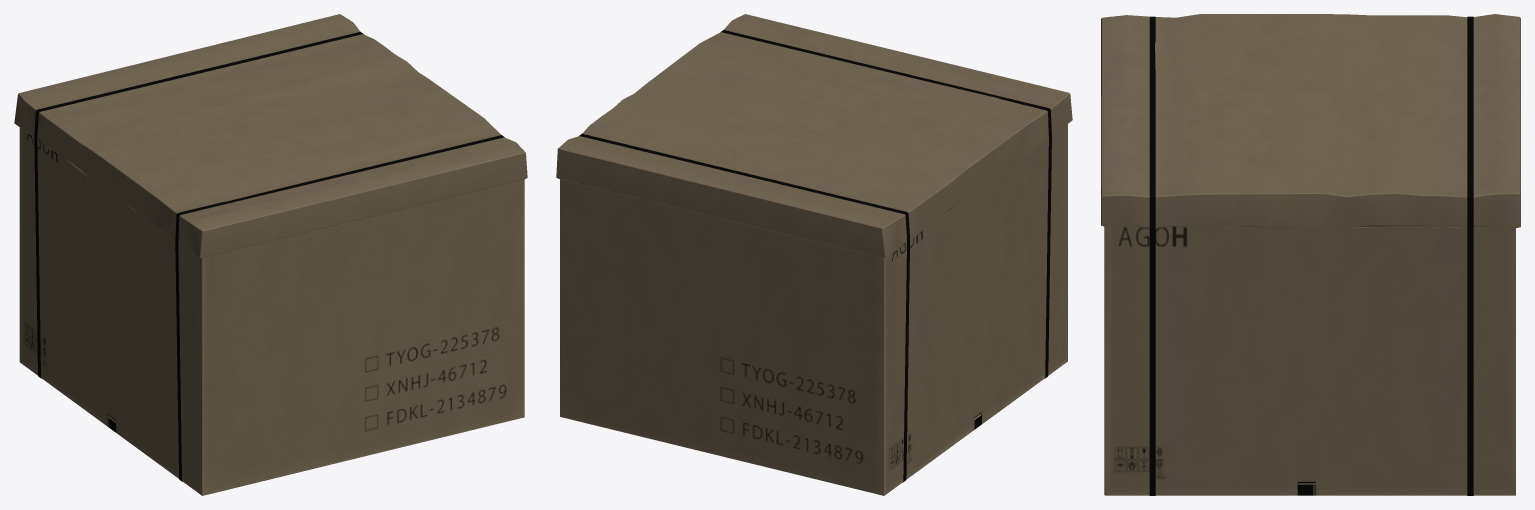
Rendered from Cardboard_A3.glb.
3 renders of one model, left to right at view 1: azimuth 30°, elevation 25°; view 2: azimuth 150°, elevation 25°; view 3: azimuth 270°, elevation 25°, orthographic. The views are drawn at different scales.
Parts seen in each view (by area): view 1: Cardboard_A; view 2: Cardboard_A; view 3: Cardboard_A.
Boxes of the visible parts, box(x1,y1,x2,y2) form: Cardboard_A: box(14, 14, 527, 495); Cardboard_A: box(556, 14, 1072, 495); Cardboard_A: box(1101, 14, 1520, 495).
Size of the model in its own units: 1.05 by 0.8174 by 1.03.
1 material, 1 textured.
